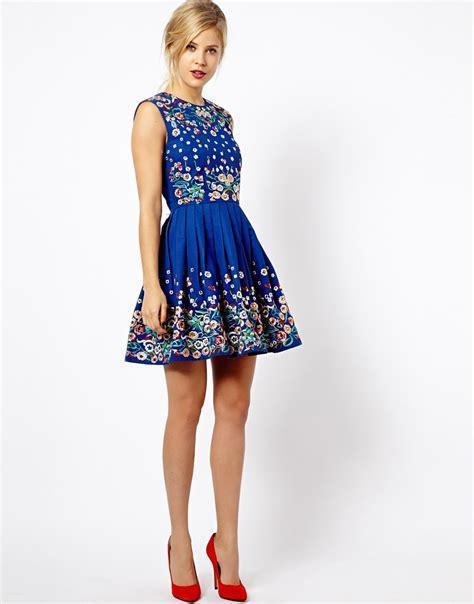dress: (126, 92, 302, 366)
